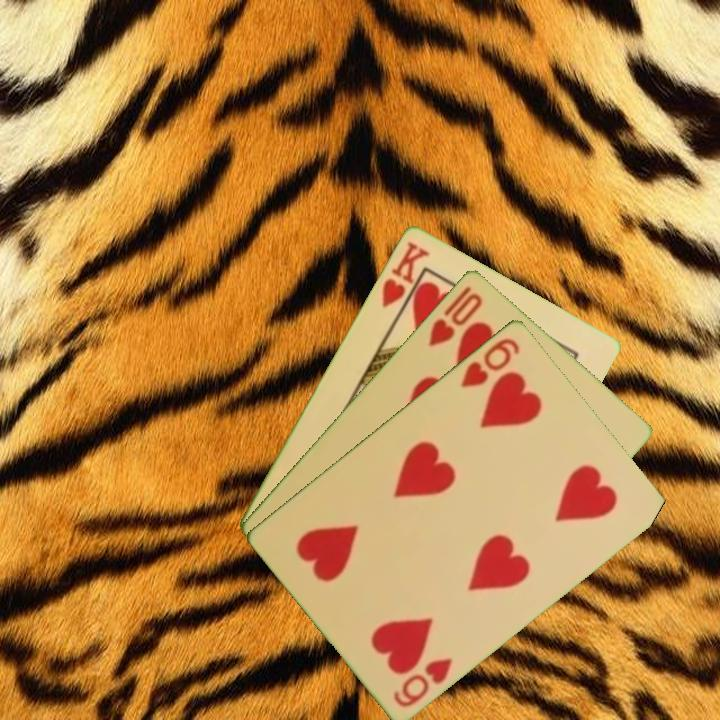10h: (424, 288, 486, 349)
6h: (389, 653, 456, 710), (457, 333, 523, 390)
Kh: (378, 237, 432, 320)
